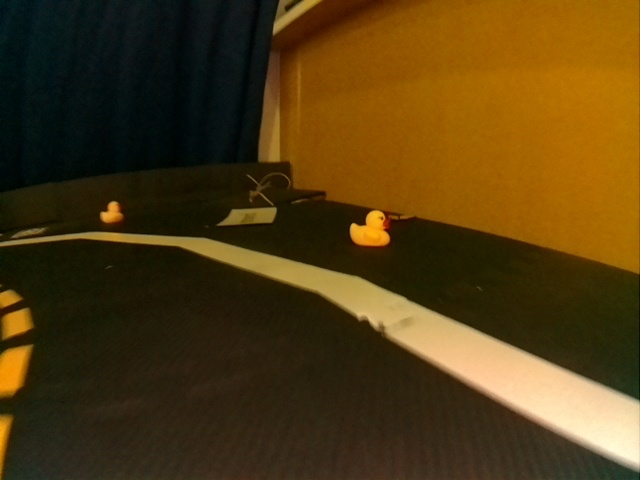Duckie: (350, 211, 390, 246), (100, 201, 122, 223)
